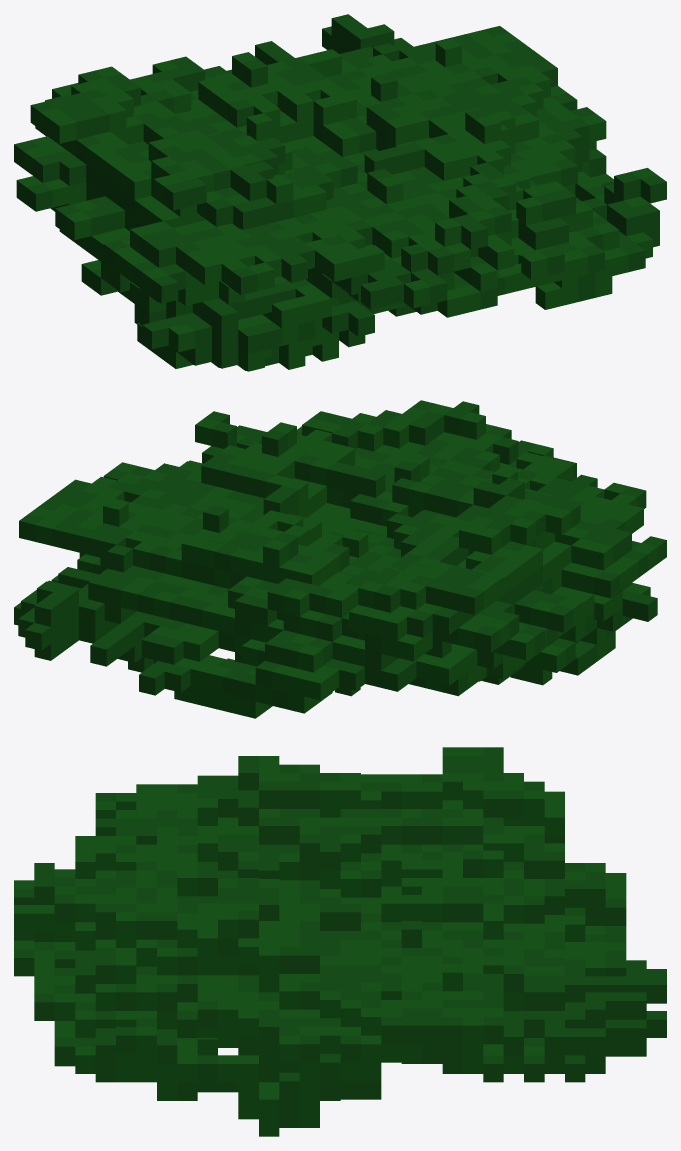
The model's file is start_end-20.obj.
The picture shows the model from 3 angles, top to bottom: view 1: azimuth 30°, elevation 25°; view 2: azimuth 150°, elevation 25°; view 3: azimuth 270°, elevation 25°; orthographic projection. The views are drawn at different scales.
Bounding box in the file's own units: 3 × 0.9 × 3.2.
Materials: 1 (1 with a texture image).
